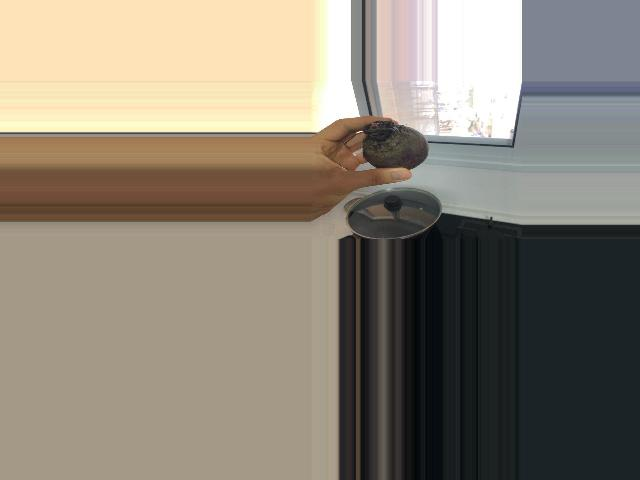beet: (343, 120, 429, 170)
